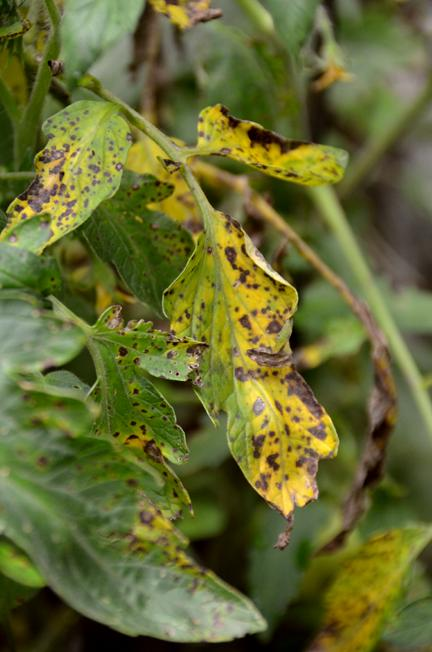Tomato Early blight leaf: (183, 206, 334, 511), (0, 97, 139, 250), (188, 108, 352, 183)
